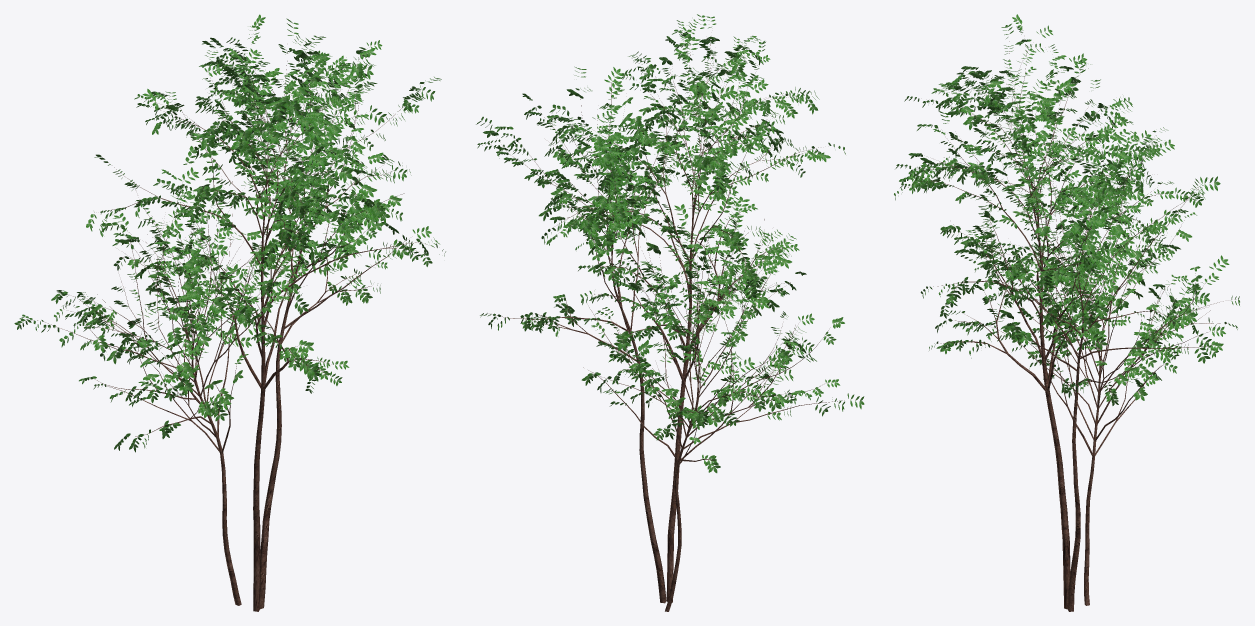
File: simatoneriko_nocolor.fbx
The picture shows the model from 3 angles, left to right: view 1: azimuth 30°, elevation 25°; view 2: azimuth 150°, elevation 25°; view 3: azimuth 270°, elevation 25°; orthographic projection. The views are drawn at different scales.
Parts seen in each view (by area): view 1: Tree.003, Tree, Tree.001; view 2: Tree.003, Tree, Tree.001; view 3: Tree.003, Tree, Tree.001.
Part boxes in pixels (<box>): Tree.003: <box>100,62,421,611</box>; Tree: <box>33,181,306,605</box>; Tree.001: <box>212,53,408,609</box>; Tree.003: <box>558,44,818,602</box>; Tree: <box>583,219,844,611</box>; Tree.001: <box>495,82,686,603</box>; Tree.003: <box>913,41,1175,609</box>; Tree: <box>998,175,1226,605</box>; Tree.001: <box>953,145,1213,611</box>.
Bounding box in the file's own units: 275 × 405 × 226.
Materials: 2 (2 with a texture image).
